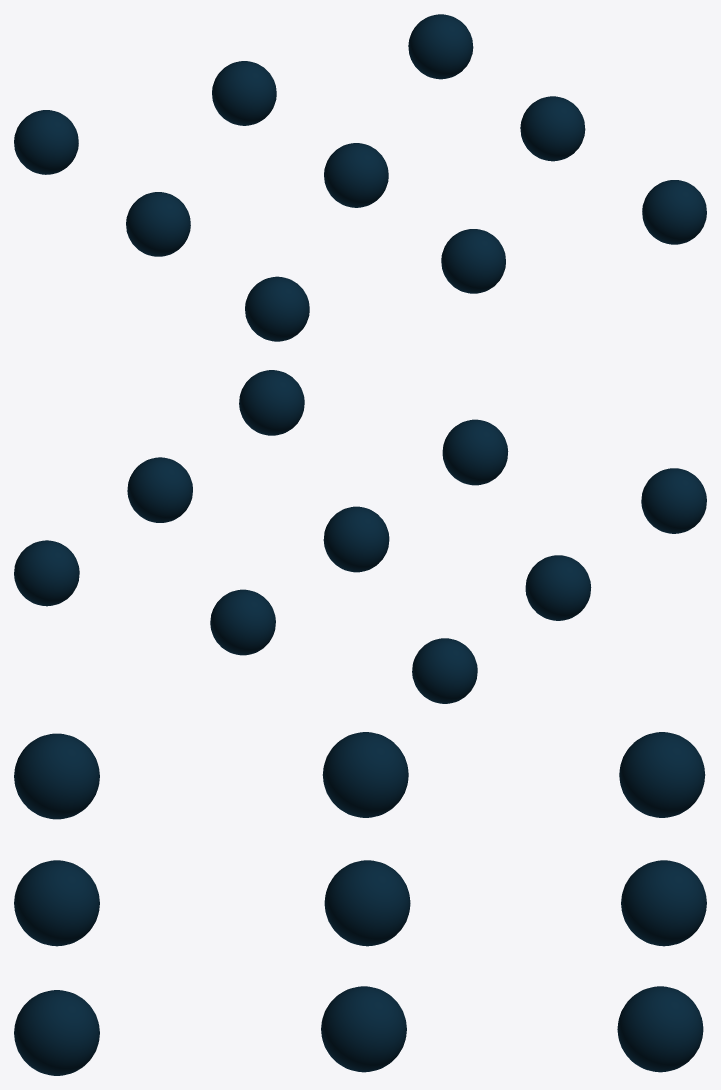
The model's file is neural_network.glb.
The picture shows the model from 3 angles, top to bottom: view 1: azimuth 30°, elevation 25°; view 2: azimuth 150°, elevation 25°; view 3: azimuth 270°, elevation 25°; orthographic projection. The views are drawn at different scales.
Parts seen in each view (by area): view 1: Sphere.002, Sphere.005, Sphere.009, Sphere.004, Sphere.008, Sphere.007, Sphere.001, Sphere.003, Sphere.006; view 2: Sphere.007, Sphere.004, Sphere.001, Sphere.006, Sphere.009, Sphere.002, Sphere.003, Sphere.005, Sphere.008; view 3: Sphere.002, Sphere.009, Sphere.005, Sphere.008, Sphere.007, Sphere.003, Sphere.004, Sphere.006, Sphere.001.
Boxes of the visible parts, bbox=[...] form: Sphere.002: bbox=[245, 276, 309, 341]; Sphere.005: bbox=[520, 96, 585, 161]; Sphere.009: bbox=[408, 14, 473, 79]; Sphere.004: bbox=[324, 143, 388, 207]; Sphere.008: bbox=[441, 229, 505, 293]; Sphere.007: bbox=[212, 61, 276, 125]; Sphere.001: bbox=[642, 180, 706, 244]; Sphere.003: bbox=[126, 192, 190, 256]; Sphere.006: bbox=[14, 110, 78, 174]; Sphere.007: bbox=[210, 589, 275, 655]; Sphere.004: bbox=[323, 506, 389, 572]; Sphere.001: bbox=[239, 370, 304, 435]; Sphere.006: bbox=[412, 638, 477, 703]; Sphere.009: bbox=[14, 540, 79, 606]; Sphere.002: bbox=[641, 468, 706, 533]; Sphere.003: bbox=[525, 555, 591, 620]; Sphere.005: bbox=[127, 457, 192, 522]; Sphere.008: bbox=[442, 419, 508, 485]; Sphere.002: bbox=[14, 733, 99, 819]; Sphere.009: bbox=[617, 986, 703, 1072]; Sphere.005: bbox=[321, 986, 406, 1072]; Sphere.008: bbox=[14, 860, 99, 946]; Sphere.007: bbox=[621, 860, 706, 946]; Sphere.003: bbox=[322, 732, 408, 817]; Sphere.004: bbox=[324, 860, 410, 946]; Sphere.006: bbox=[619, 732, 705, 817]; Sphere.001: bbox=[14, 990, 99, 1075].
Bounding box in the file's own units: 16.19 × 2 × 16.11.
